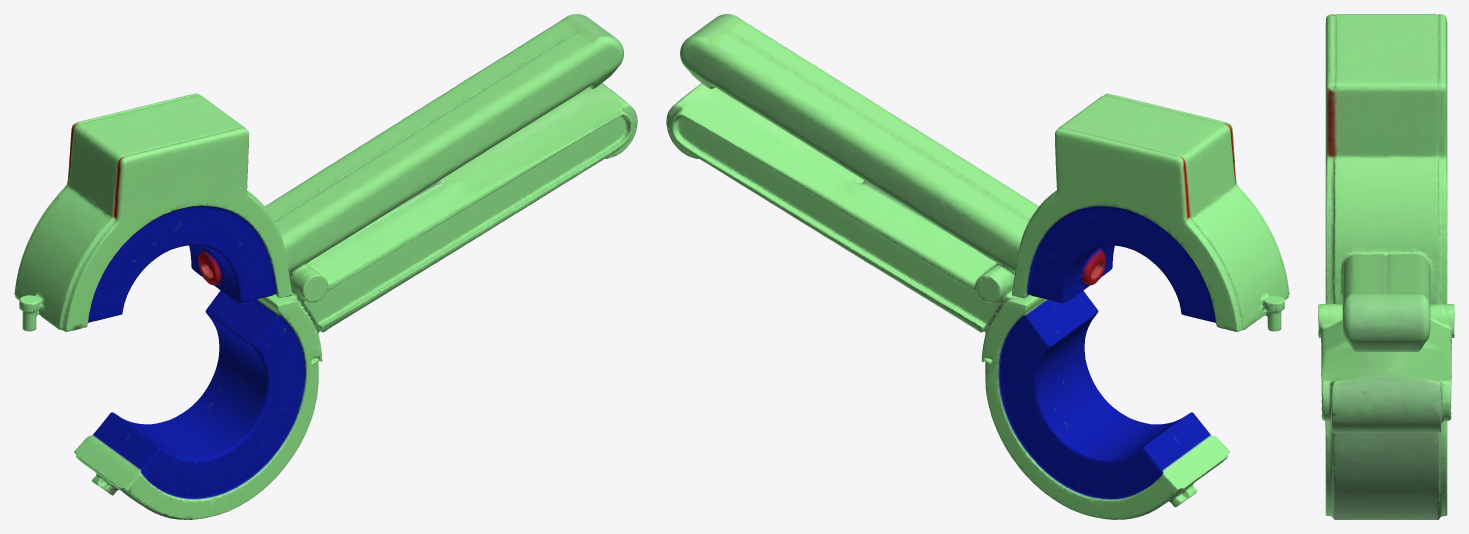
File: fuel-clamp.glb
3 views of the same model, side by side, from view 1: azimuth 30°, elevation 25°; view 2: azimuth 150°, elevation 25°; view 3: azimuth 270°, elevation 25° (orthographic). The views are drawn at different scales.
Bounding box in the file's own units: 1.9 × 1.17 × 0.3252.
1 material, 1 textured.
